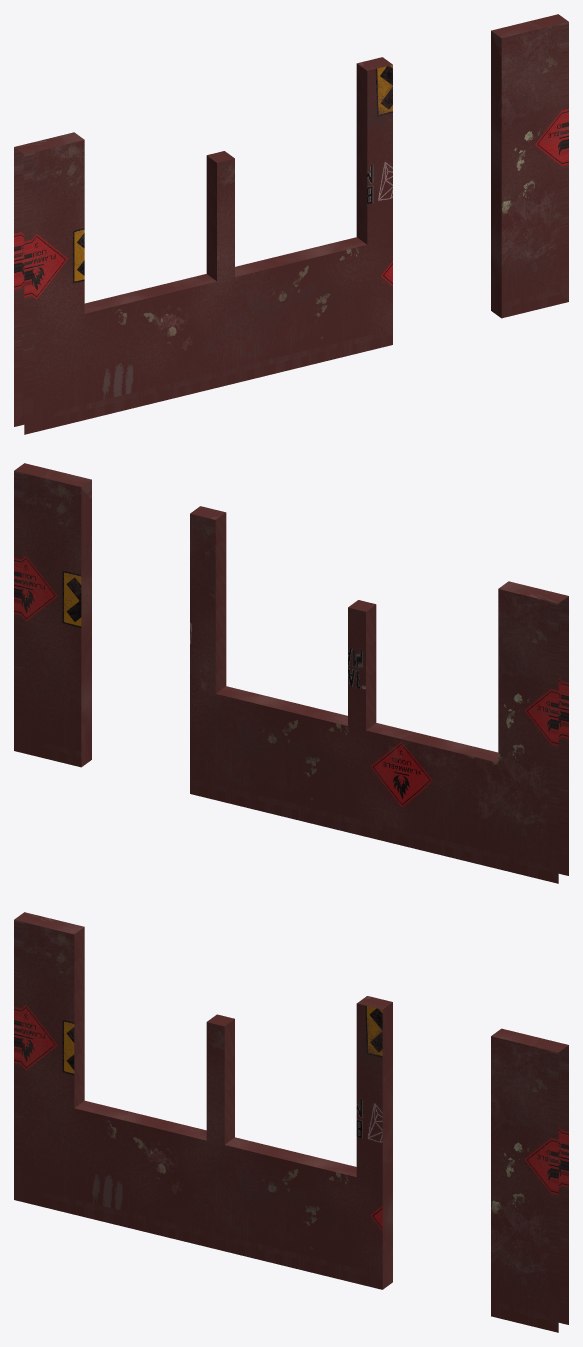
The model's file is CS_wall_door_and_windows_UC.FBX.
3 views of the same model, one above another, from view 1: azimuth 30°, elevation 25°; view 2: azimuth 150°, elevation 25°; view 3: azimuth 330°, elevation 25° (orthographic).
Visible parts, largest first — view 1: SM_wall_door_and_windows_UC; view 2: SM_wall_door_and_windows_UC; view 3: SM_wall_door_and_windows_UC.
Boxes of the visible parts, bbox=[...] form: SM_wall_door_and_windows_UC: bbox=[14, 14, 568, 434]; SM_wall_door_and_windows_UC: bbox=[14, 463, 568, 883]; SM_wall_door_and_windows_UC: bbox=[14, 912, 568, 1332].
Bounding box in the file's own units: 600 × 20 × 295.
